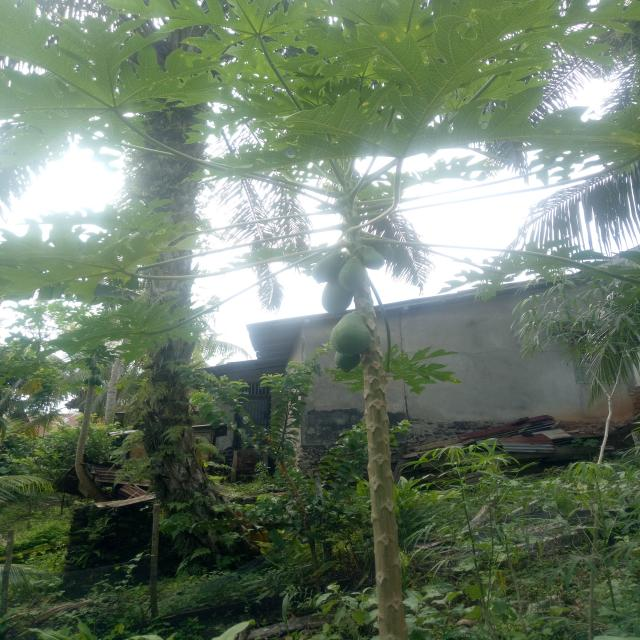Pepaya unrippen: (336, 260, 372, 302), (335, 315, 373, 349)
